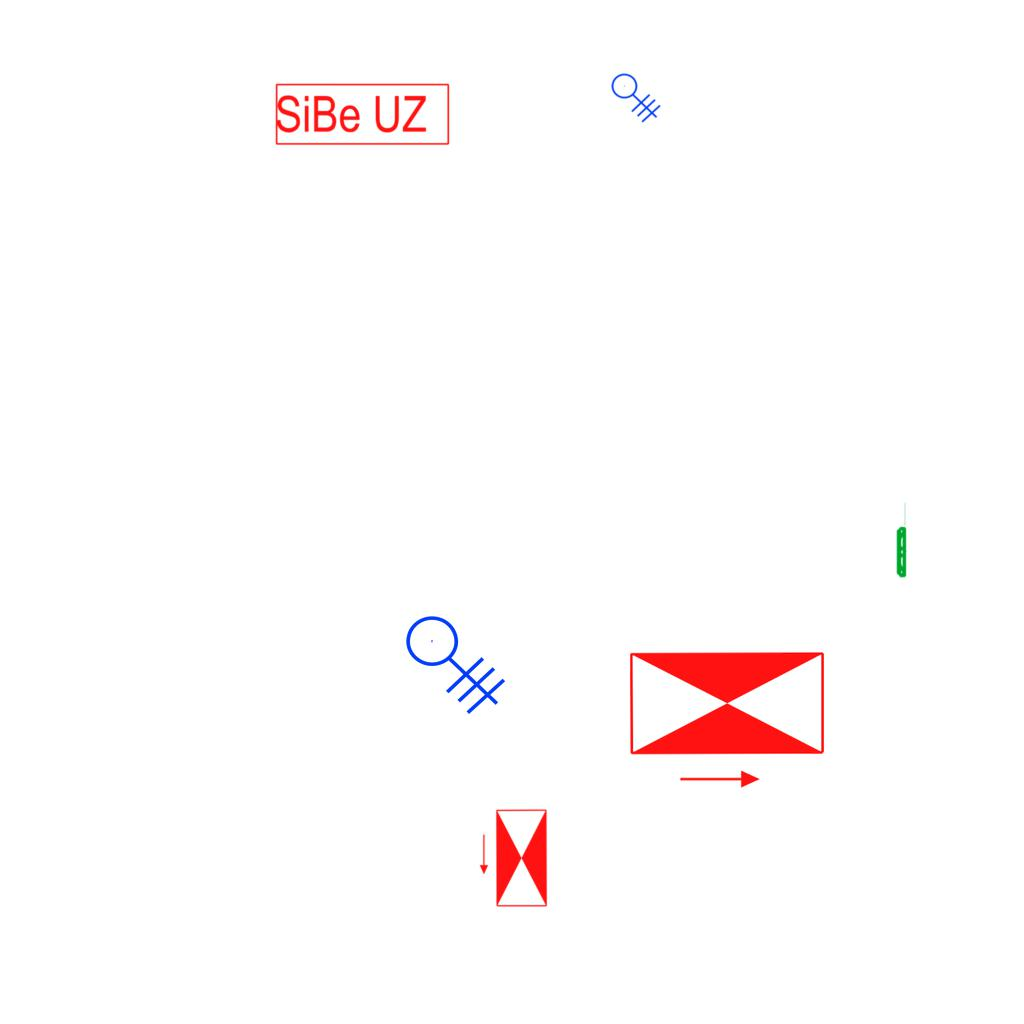Elektroanschluss_allgemein_400V_Geraeteanschlussdose_400V: (405, 599, 518, 715), (611, 65, 667, 123)
Fluchtwegpiktogramm: (623, 646, 831, 793), (477, 806, 550, 910)
Sicherheitsleuchte_Wandeinbau: (895, 500, 907, 579)
Zentrale_Sicherheitsbeleuchtung: (274, 82, 452, 147)
